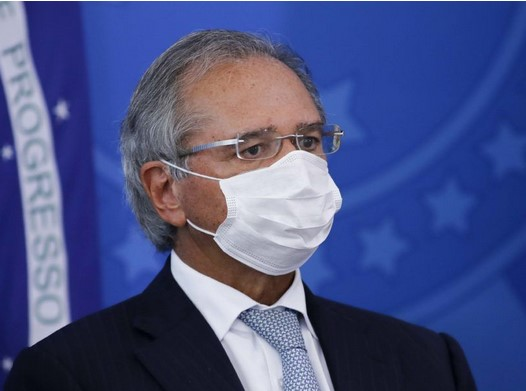face_with_mask: (139, 39, 346, 277)
